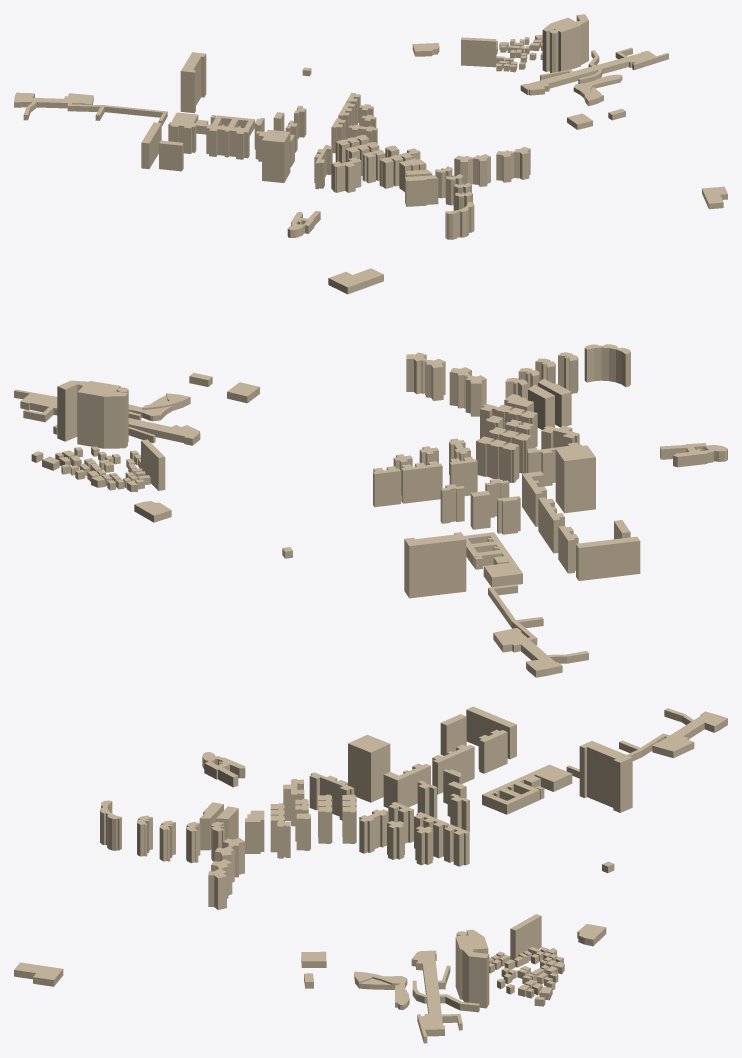
The model's file is -13_-3-estimated-coarse.glb.
3 views of the same model, one above another, from view 1: azimuth 30°, elevation 25°; view 2: azimuth 150°, elevation 25°; view 3: azimuth 270°, elevation 25° (orthographic). The views are drawn at different scales.
Bounding box in the file's own units: 1264 × 90 × 1161.
